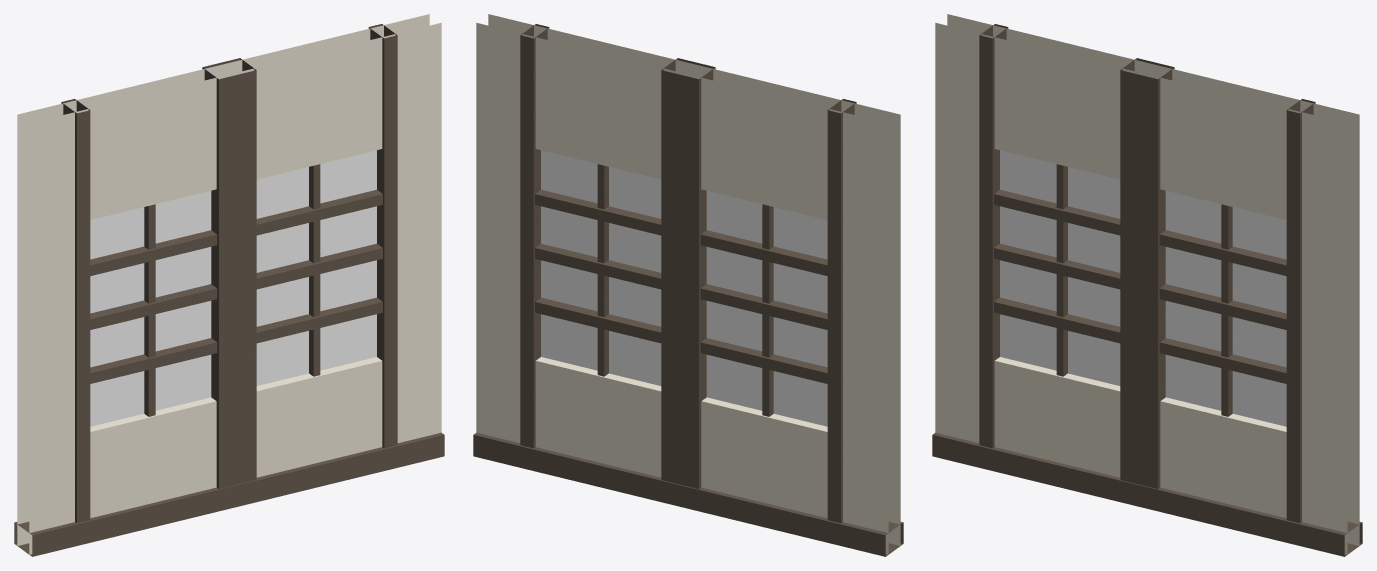
Rendered from Wall_1G_Window.fbx.
3 renders of one model, left to right at view 1: azimuth 30°, elevation 25°; view 2: azimuth 150°, elevation 25°; view 3: azimuth 330°, elevation 25°, orthographic.
Parts seen in each view (by area): view 1: pCube765; view 2: pCube765; view 3: pCube765.
Boxes of the visible parts, x1,y1,x2,y2 form: pCube765: (14, 14, 444, 556); pCube765: (473, 14, 903, 556); pCube765: (932, 14, 1362, 556).
Bounding box in the file's own units: 400 × 400 × 30.
